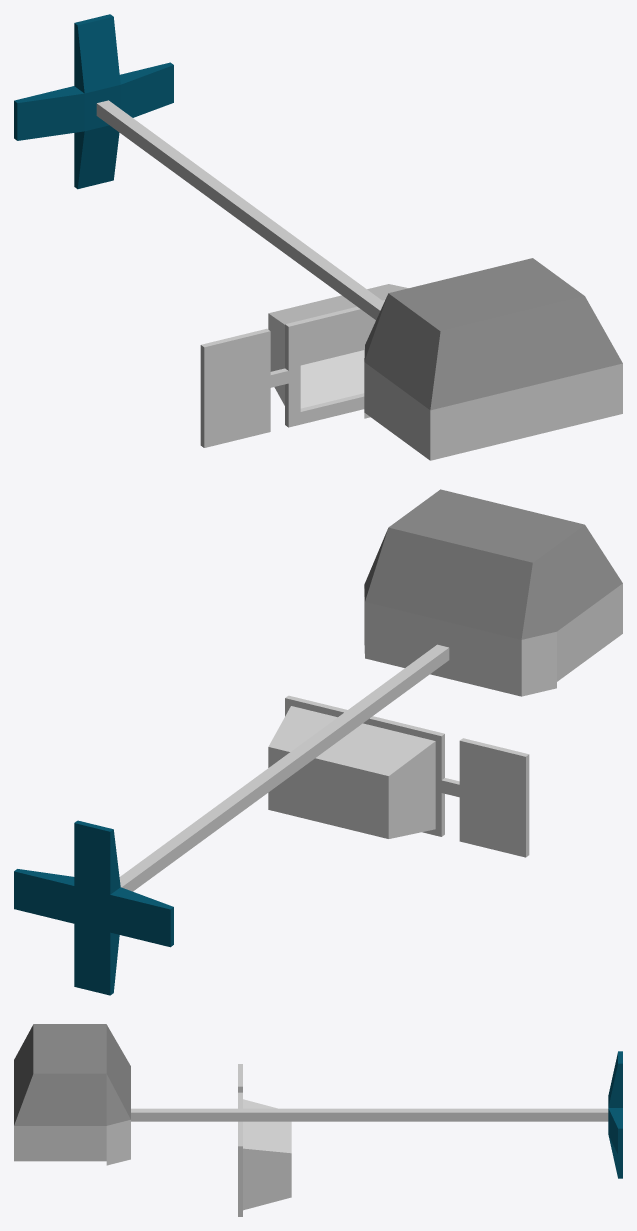
Rendered from ecg.dae.
The picture shows the model from 3 angles, top to bottom: view 1: azimuth 30°, elevation 25°; view 2: azimuth 150°, elevation 25°; view 3: azimuth 270°, elevation 25°; orthographic projection. The views are drawn at different scales.
Parts seen in each view (by area): view 1: coords_ME_ID39_MA_Color_004, coords_ME_ID11_MA_Color_000, coords_ME_ID19_MA_Color_000, coords_ME_ID3_MA_material_21, coords_ME_ID47_MA_Color_000, coords_ME_ID33_MA_Color_000; view 2: coords_ME_ID39_MA_Color_004, coords_ME_ID11_MA_Color_000, coords_ME_ID33_MA_Color_000, coords_ME_ID19_MA_Color_000, coords_ME_ID3_MA_material_21; view 3: coords_ME_ID39_MA_Color_004, coords_ME_ID11_MA_Color_000, coords_ME_ID19_MA_Color_000, coords_ME_ID33_MA_Color_000, coords_ME_ID3_MA_material_21.
Part boxes in pixels (<box>): coords_ME_ID39_MA_Color_004: <box>364,258,622,410</box>; coords_ME_ID11_MA_Color_000: <box>96,100,384,447</box>; coords_ME_ID19_MA_Color_000: <box>364,362,622,460</box>; coords_ME_ID3_MA_material_21: <box>14,14,173,189</box>; coords_ME_ID47_MA_Color_000: <box>300,318,375,411</box>; coords_ME_ID33_MA_Color_000: <box>268,284,408,405</box>; coords_ME_ID39_MA_Color_004: <box>364,489,622,639</box>; coords_ME_ID11_MA_Color_000: <box>119,644,529,891</box>; coords_ME_ID33_MA_Color_000: <box>268,706,435,838</box>; coords_ME_ID19_MA_Color_000: <box>364,583,622,696</box>; coords_ME_ID3_MA_material_21: <box>14,820,173,995</box>; coords_ME_ID39_MA_Color_004: <box>14,1024,130,1125</box>; coords_ME_ID11_MA_Color_000: <box>131,1064,608,1216</box>; coords_ME_ID19_MA_Color_000: <box>14,1120,130,1165</box>; coords_ME_ID33_MA_Color_000: <box>243,1099,291,1210</box>; coords_ME_ID3_MA_material_21: <box>608,1051,622,1178</box>.
Size of the model in its own units: 6.7 by 4.99 by 19.49.
